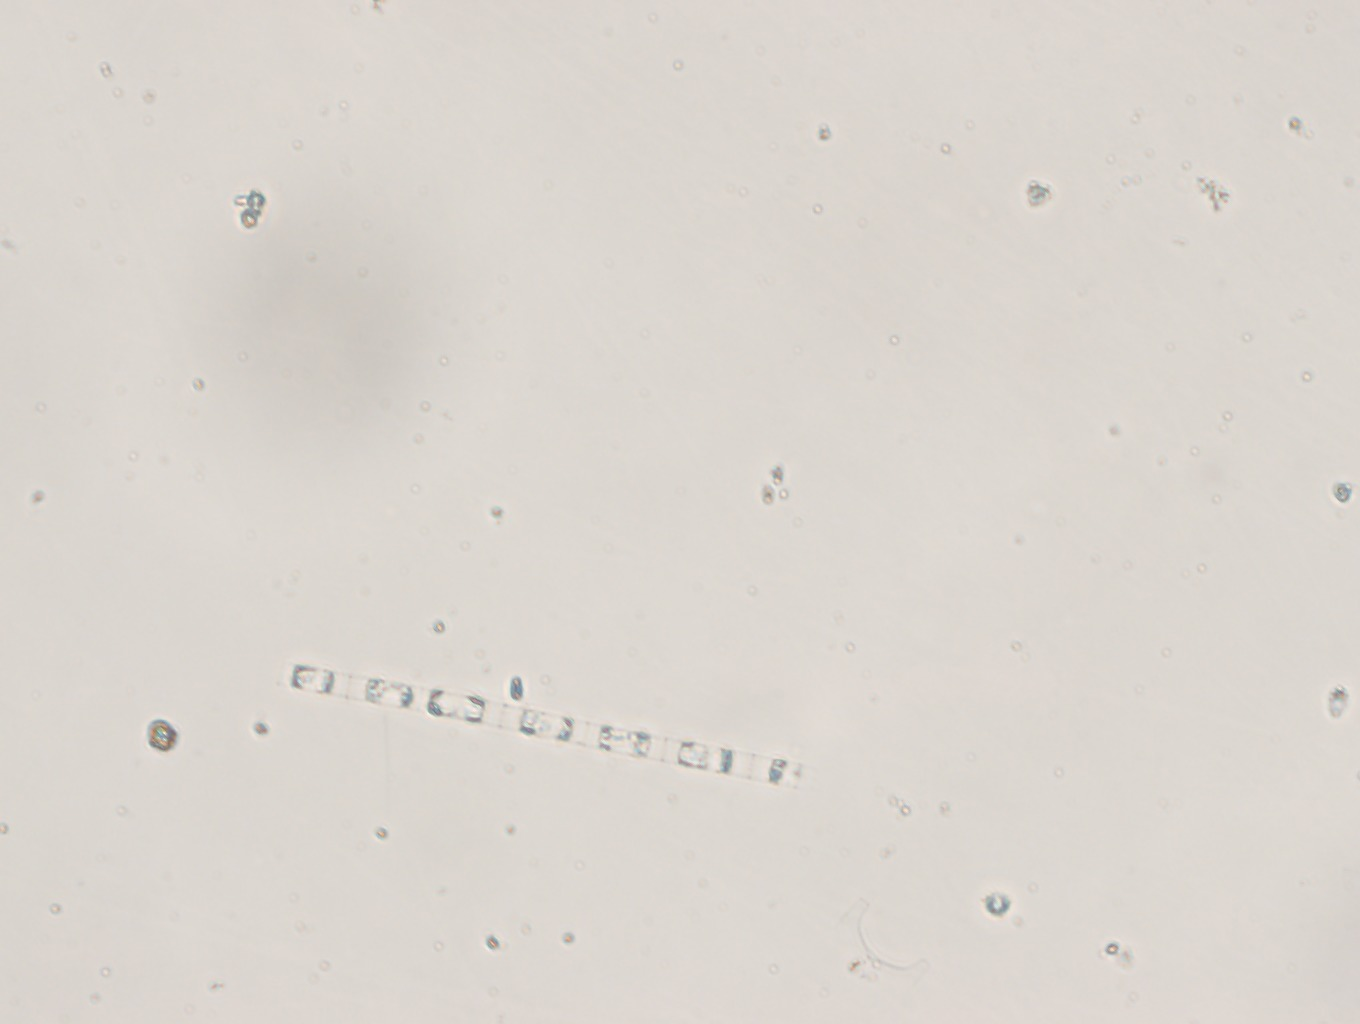skeletonema: (274, 654, 851, 806)
